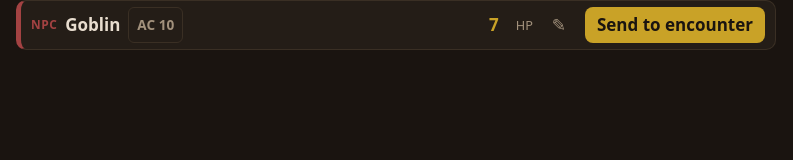
Test case: CatalogRow HP editing › reveals an input seeded with the current HP when clicked
The image size is (793, 160).
Click the button "7".
click(494, 25)  # box [476,7,512,43]
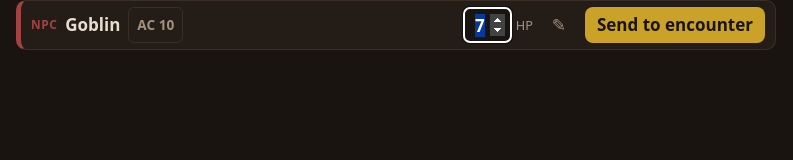
Check: the number field named "hp" holds "7", box [463,7,512,43]
